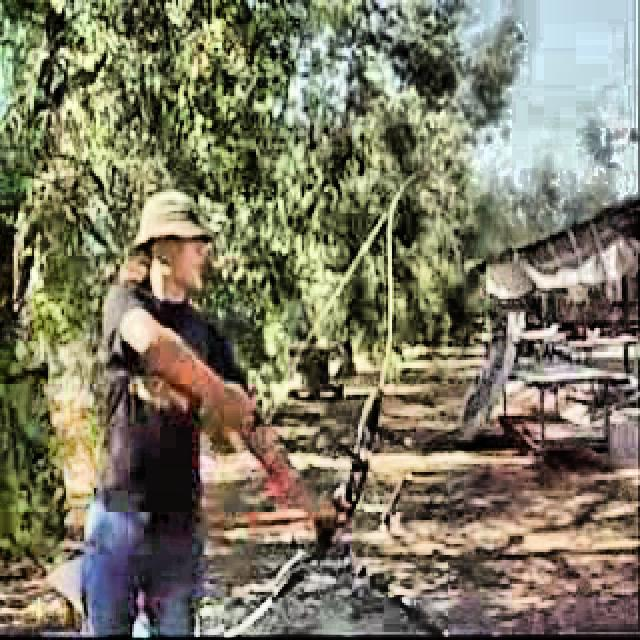I: (54, 127, 374, 640)
